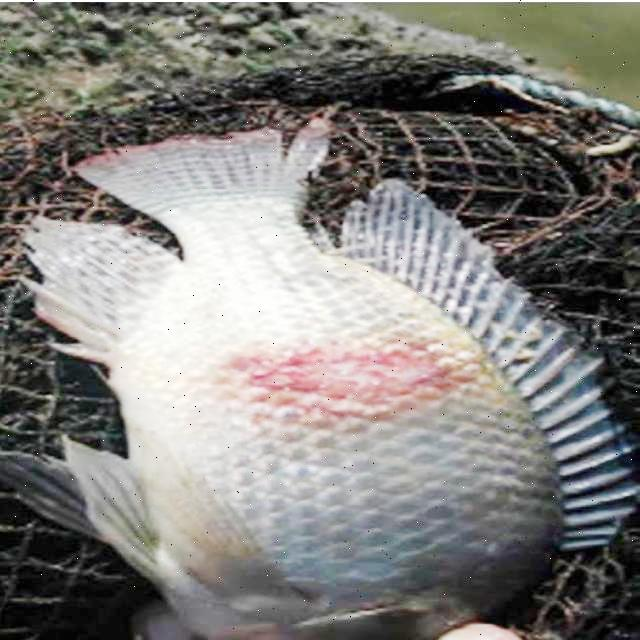Tilapia Lake Virus -TiLV-: (2, 120, 639, 639), (25, 120, 639, 639)
